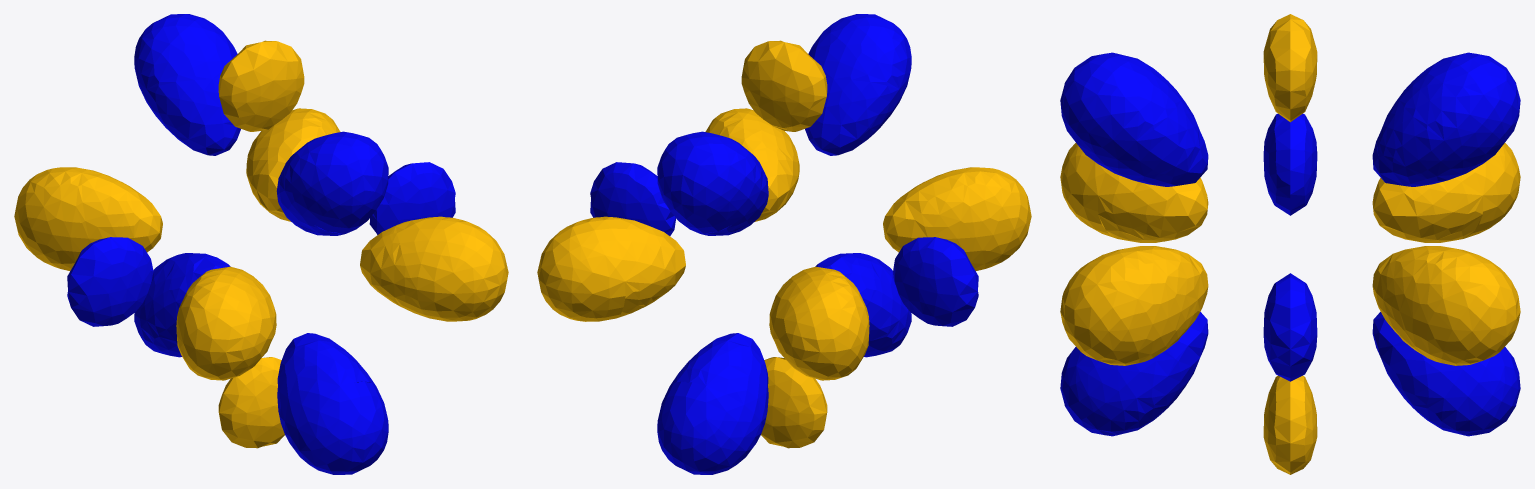
The picture shows the model from 3 angles, left to right: view 1: azimuth 30°, elevation 25°; view 2: azimuth 150°, elevation 25°; view 3: azimuth 270°, elevation 25°; orthographic projection. The views are drawn at different scales.
Size of the model in its own units: 27.88 by 27.88 by 25.83.
